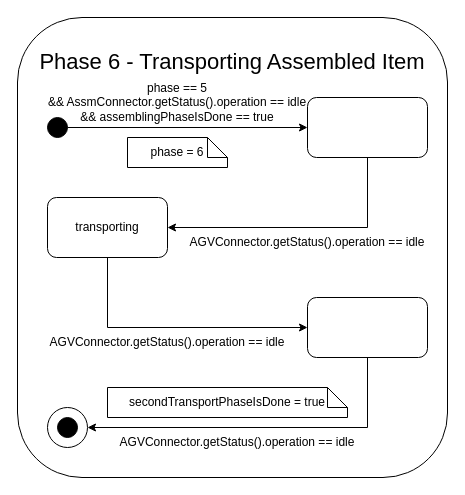
Image size: 465x495. Some labels were removed from this diagram. The shapes that lost their labels are listed below. From the top down, each one's box as (x1, y1, x2, y2) in pixels, then its label:
(306, 96, 428, 158): picking up
(306, 296, 428, 358): leaving item
